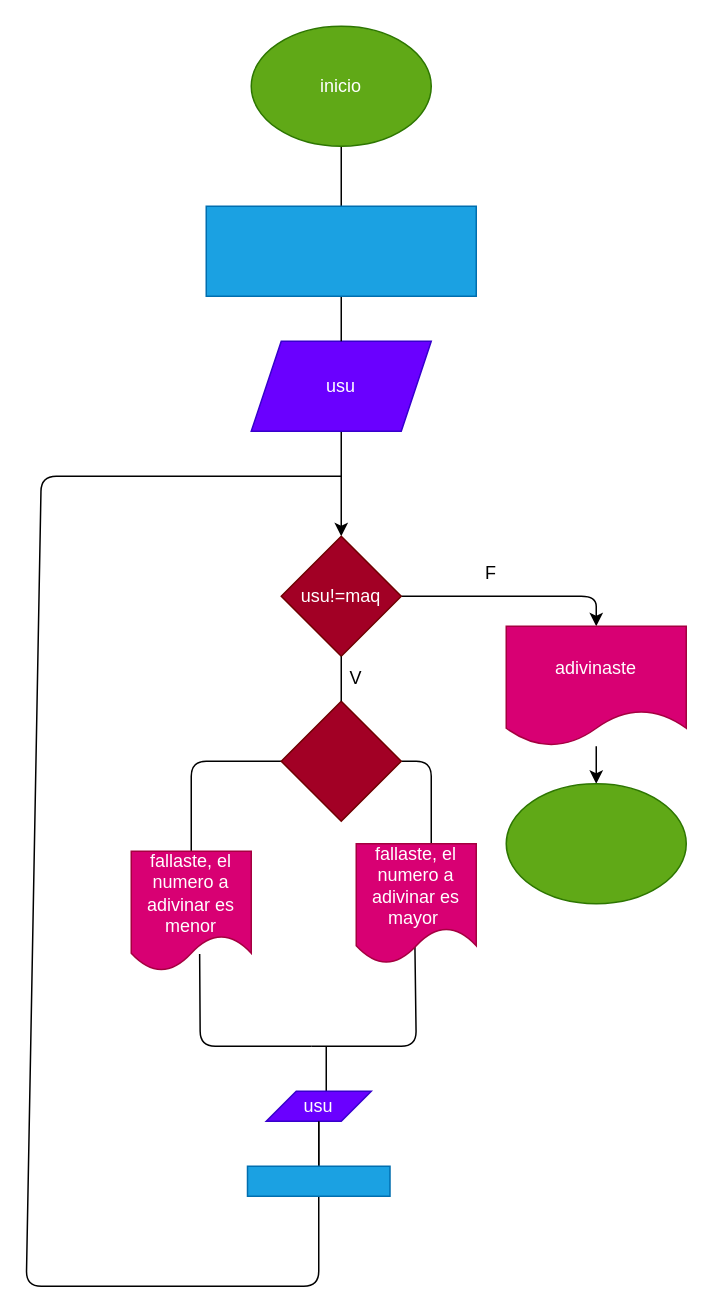
Image size: 713x1314. Some labels were removed from this diagram. The centre of each missing label's shape, as x and y in pixels:
Fin: pixel 595 843
i+1: pixel 318 1180
maq=random.randint(1,100) i=1: pixel 340 250
usu<maq: pixel 340 760
